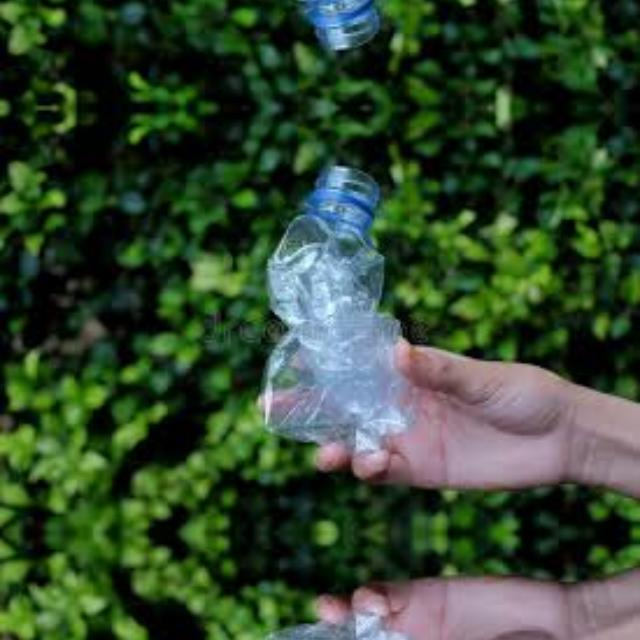Plastic: (235, 166, 430, 468), (235, 0, 430, 47), (235, 598, 430, 640)
